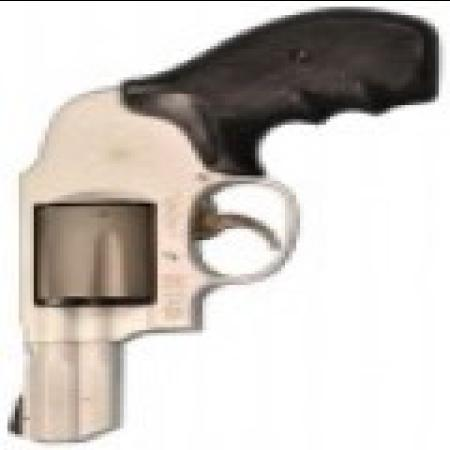Pistol: (7, 3, 428, 441)
